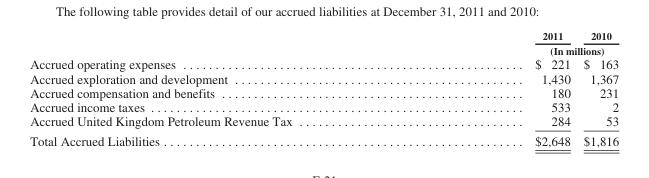table: (29, 29, 618, 147)
table column: (29, 29, 412, 147), (412, 29, 576, 147), (576, 29, 618, 147)
table column header: (29, 29, 618, 56)
table row: (29, 113, 618, 130), (29, 130, 618, 147), (29, 56, 618, 71), (29, 42, 618, 56), (29, 71, 618, 85), (29, 85, 618, 99), (29, 99, 618, 113), (29, 29, 618, 42)
table spanning cell: (412, 42, 618, 56)
